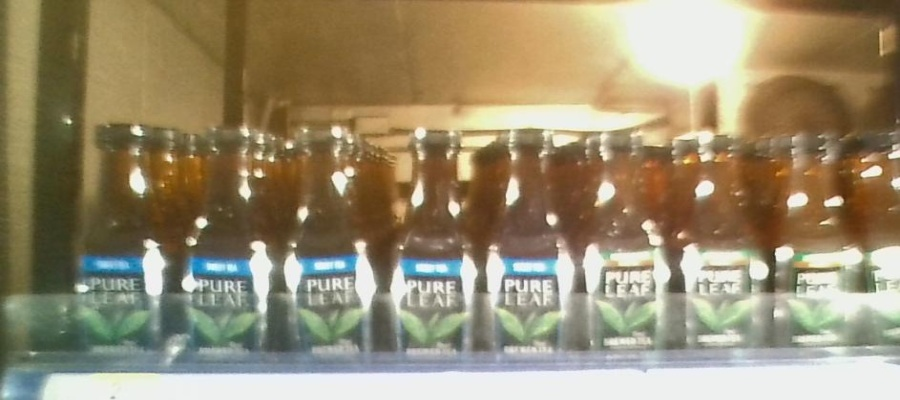bottle: (176, 122, 277, 364), (281, 123, 382, 365), (73, 115, 171, 358), (674, 127, 771, 363), (387, 123, 481, 366), (485, 122, 576, 366), (580, 124, 669, 368), (774, 131, 865, 363)
